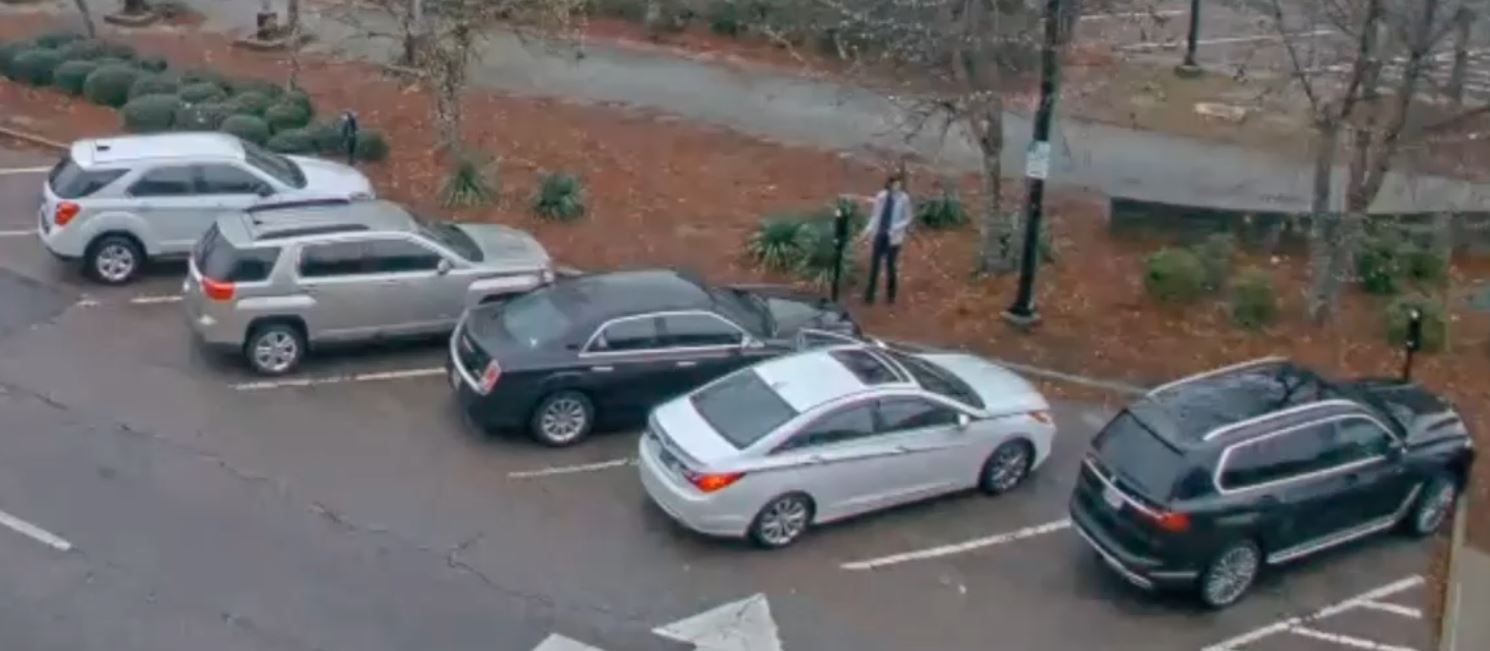car: (1069, 356, 1476, 607), (634, 338, 1056, 547), (445, 268, 863, 450), (183, 200, 562, 375), (39, 130, 377, 287)
